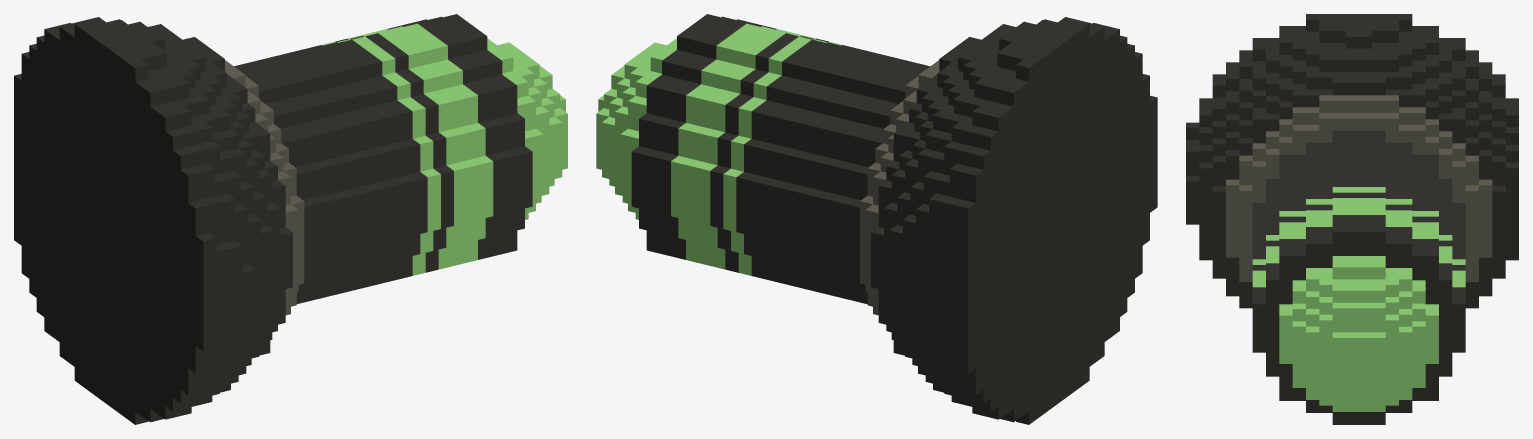
Rendered from factory4.2-4.obj.
3 views of the same model, side by side, from view 1: azimuth 30°, elevation 25°; view 2: azimuth 150°, elevation 25°; view 3: azimuth 270°, elevation 25° (orthographic). The views are drawn at different scales.
Size of the model in its own units: 3.4 by 2.6 by 2.5.
Materials: 1 (1 with a texture image).
